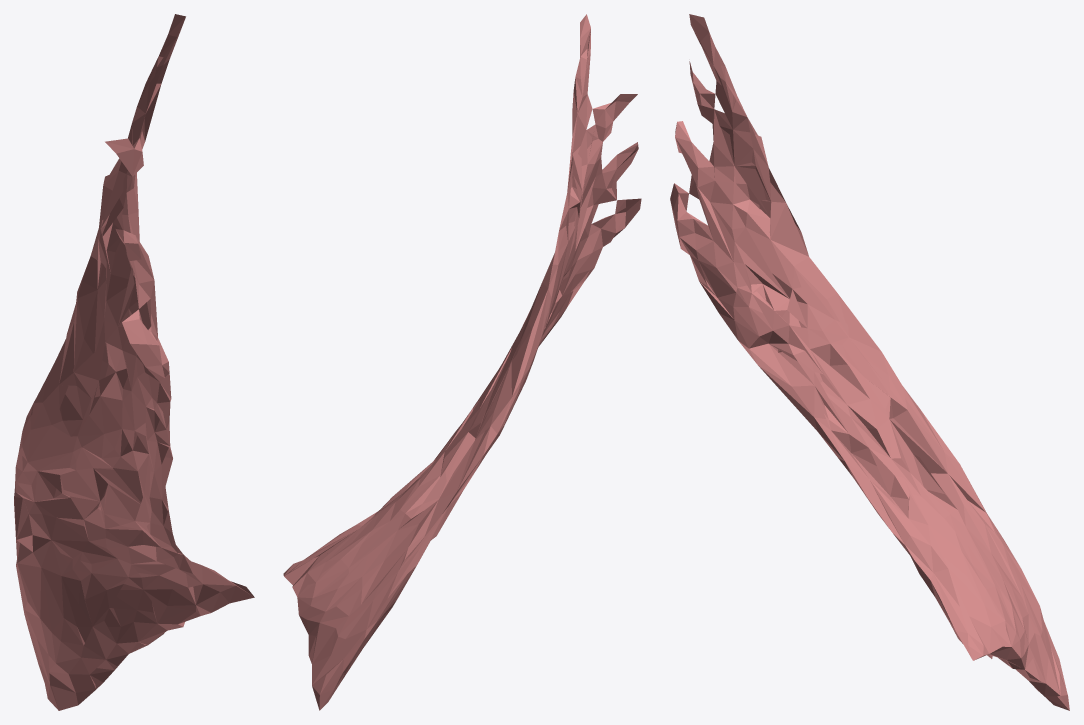
Rendered from Levator_scapulae.l.glb.
3 renders of one model, left to right at view 1: azimuth 30°, elevation 25°; view 2: azimuth 150°, elevation 25°; view 3: azimuth 270°, elevation 25°, orthographic. The views are drawn at different scales.
Parts seen in each view (by area): view 1: Levator_scapulae.l; view 2: Levator_scapulae.l; view 3: Levator_scapulae.l.
Part boxes in pixels (x1=…): Levator_scapulae.l: x1=14, y1=14, x2=254, y2=710; Levator_scapulae.l: x1=283, y1=14, x2=641, y2=710; Levator_scapulae.l: x1=670, y1=14, x2=1069, y2=710.
Size of the model in its own units: 0.0595 by 0.1494 by 0.0836.
